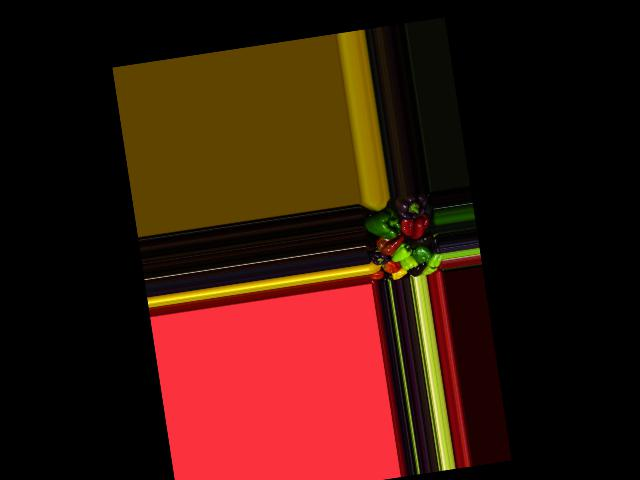bell_pepper: (368, 249, 390, 269)
